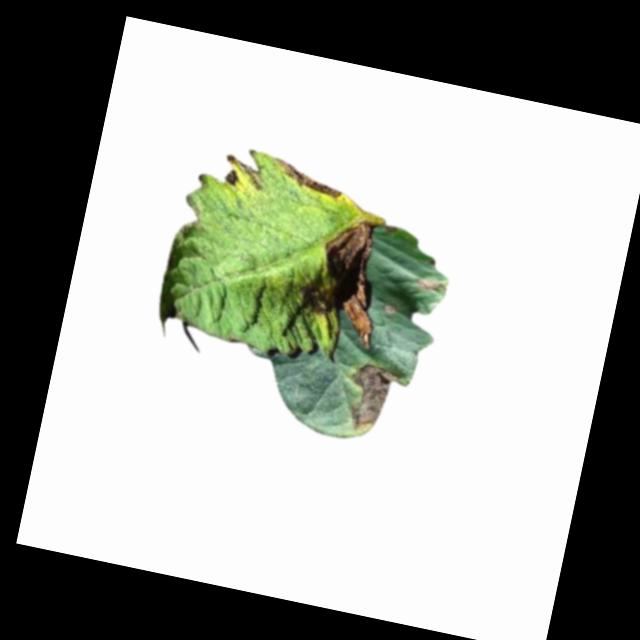Early_blight: (289, 212, 396, 347), (341, 358, 403, 435), (268, 153, 347, 201), (221, 166, 241, 189)
